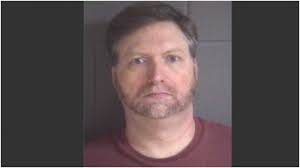white_male: (112, 31, 214, 119)
